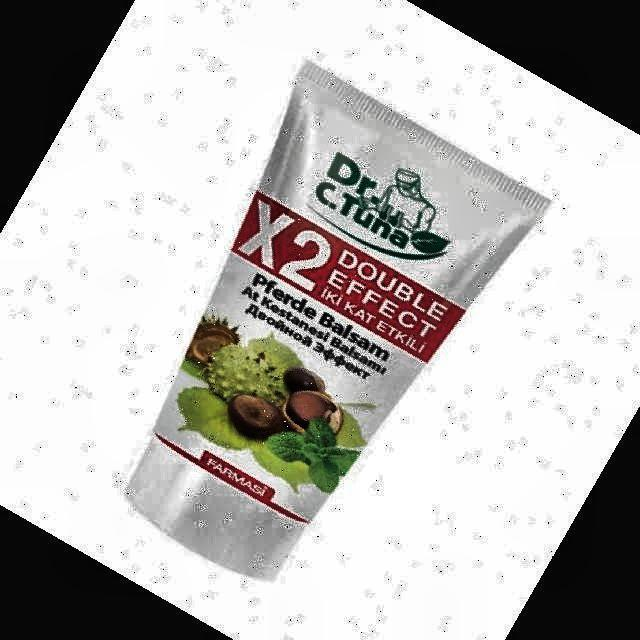plastic: (130, 64, 549, 576)
